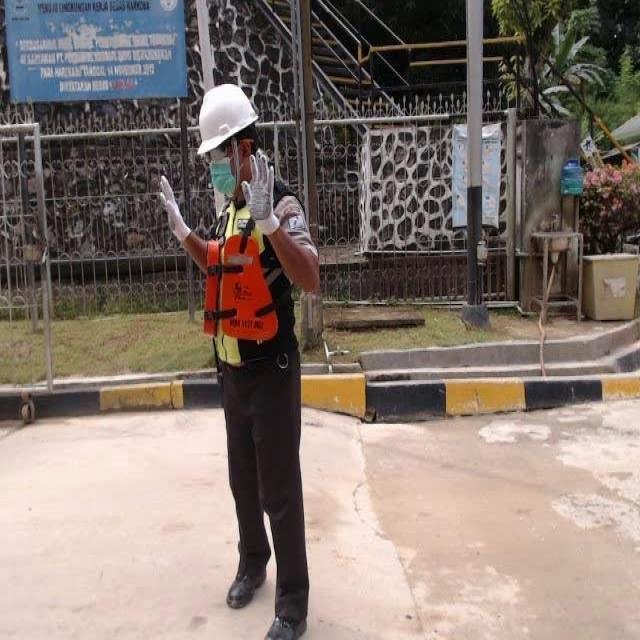Vest: (199, 240, 281, 349)
